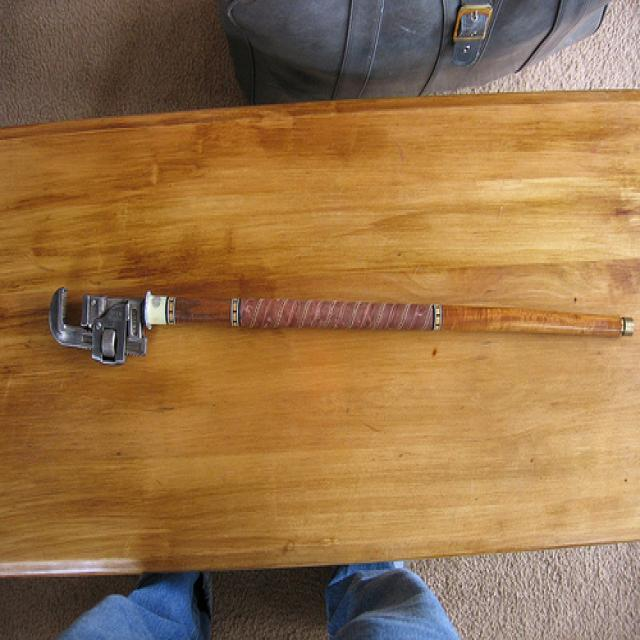screw_driver: (42, 278, 635, 366)
